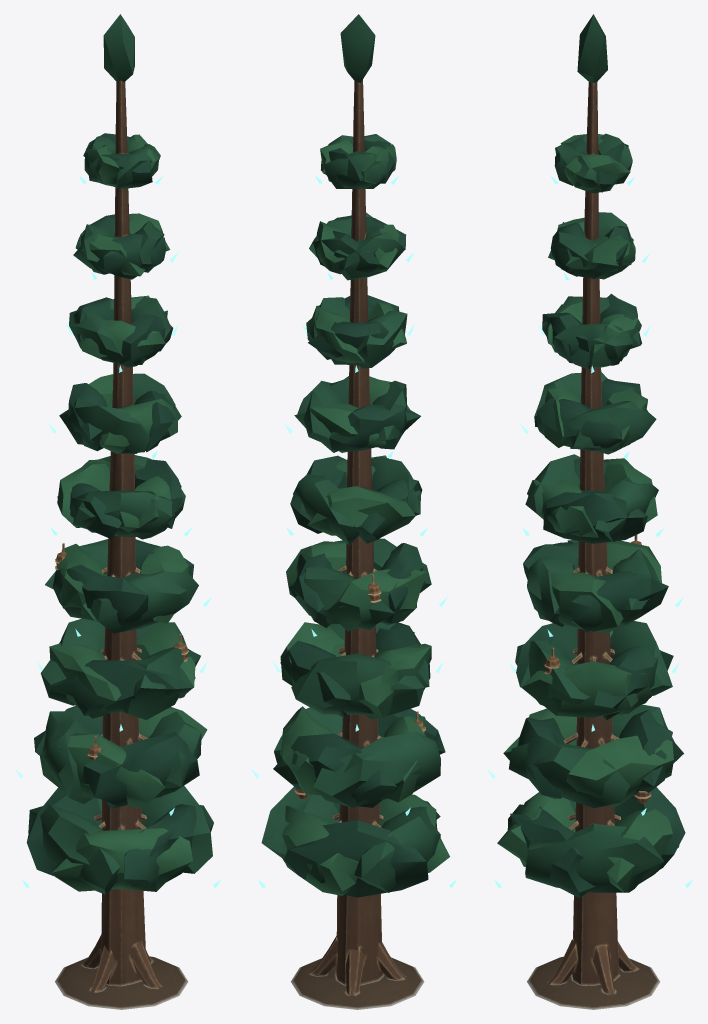
Rendered from arbol_pino_espacial.fbx.
3 renders of one model, left to right at view 1: azimuth 30°, elevation 25°; view 2: azimuth 150°, elevation 25°; view 3: azimuth 270°, elevation 25°, orthographic.
Parts seen in each view (by area): view 1: arbol_pino_espacial, arbol_pino_espacial_escarcha_neon; view 2: arbol_pino_espacial, arbol_pino_espacial_escarcha_neon; view 3: arbol_pino_espacial, arbol_pino_espacial_escarcha_neon.
Part boxes in pixels (box(x1,y1,x2,y2)): arbol_pino_espacial: box(26, 14, 213, 1009); arbol_pino_espacial_escarcha_neon: box(14, 175, 221, 888); arbol_pino_espacial: box(261, 14, 449, 1009); arbol_pino_espacial_escarcha_neon: box(250, 175, 457, 888); arbol_pino_espacial: box(497, 14, 685, 1009); arbol_pino_espacial_escarcha_neon: box(486, 175, 693, 888).
Bounding box in the file's own units: 3.21 × 16 × 3.1.
2 materials, 1 textured.
